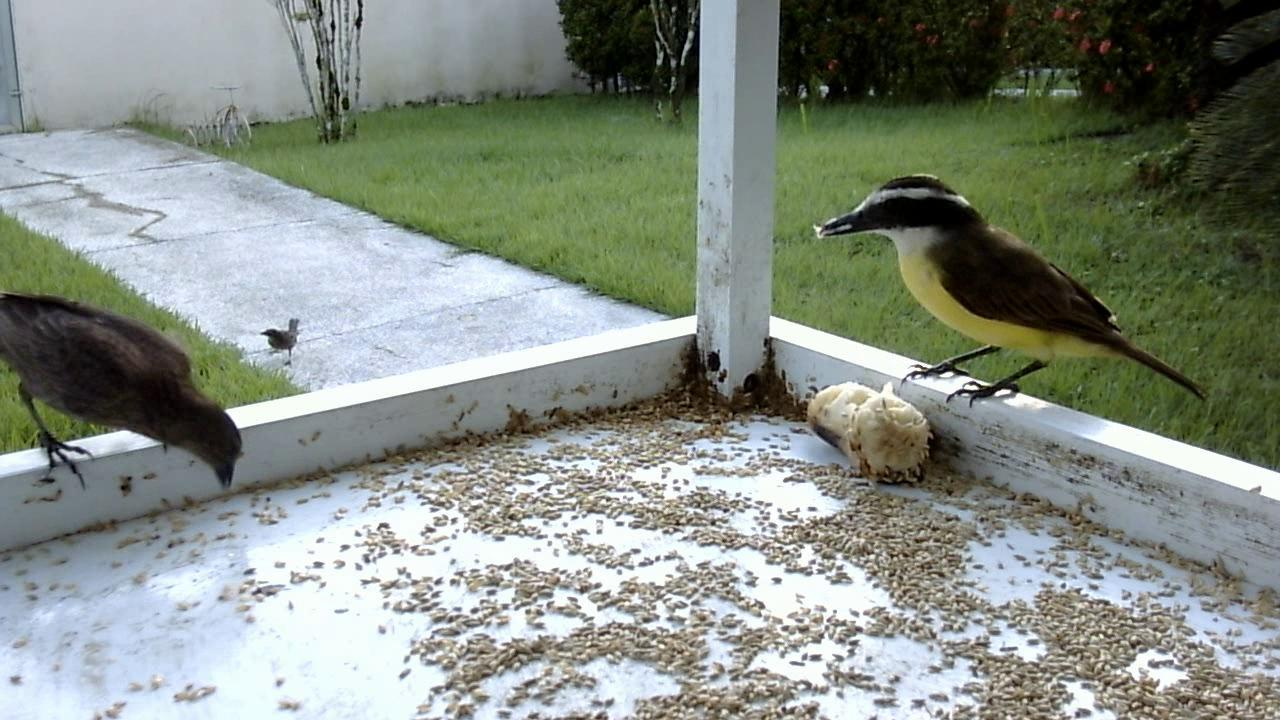bem_te_vi: (807, 165, 1215, 444)
chupim: (1, 285, 250, 507)
